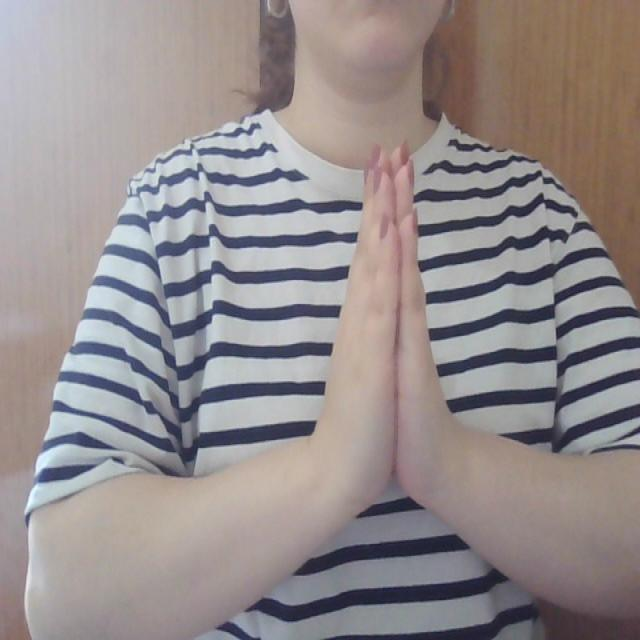Ozur-Dilemek: (316, 130, 471, 530)
